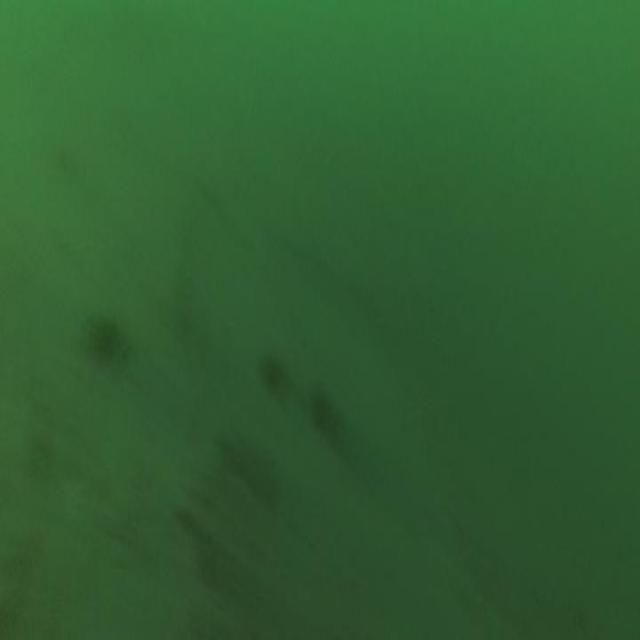echinus: (86, 308, 126, 376), (310, 384, 335, 441), (260, 351, 286, 398)
